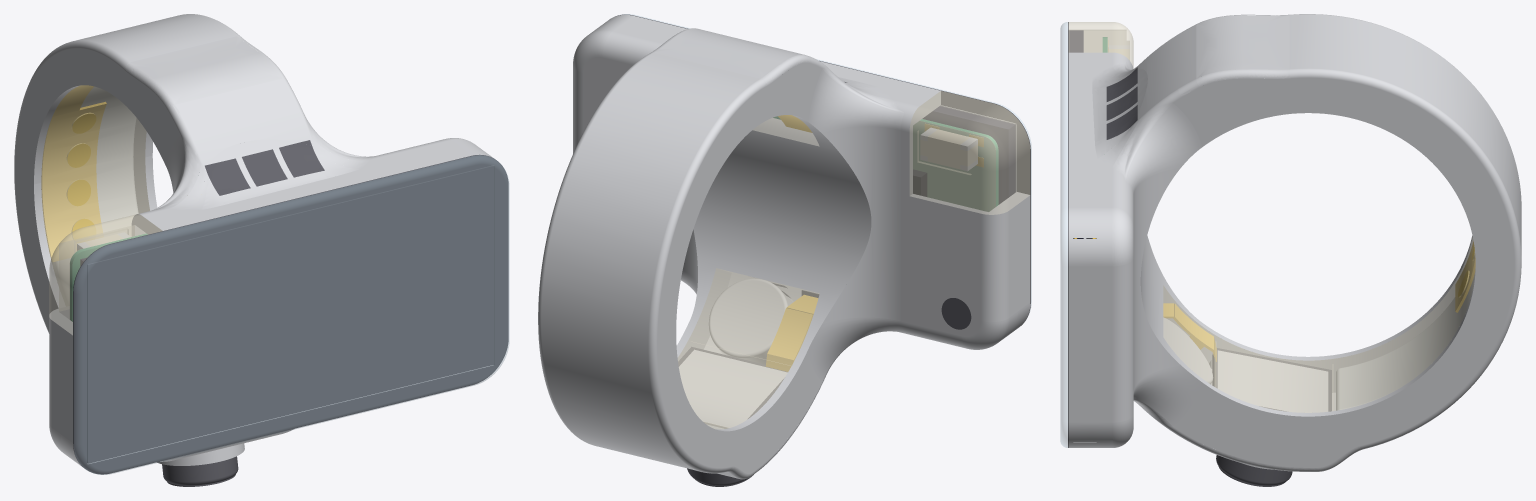
File: thin-inside.glb
3 views of the same model, side by side, from view 1: azimuth 30°, elevation 25°; view 2: azimuth 150°, elevation 25°; view 3: azimuth 270°, elevation 25° (orthographic). The views are drawn at different scales.
Visible parts, largest first — view 1: cover_glass__glass, clear_adhesive__polymer, outer_body__metal, glass_seal__polymer, band_liner__resin, band_flex_away__flex, cell__cell, radio_corner__resin, side_slit_seal__polymer, joystick_cap__polymer, joystick_frame__metal, main_board__pcb (+1 smaller); view 2: outer_body__metal, band_liner__resin, radio_corner__resin, band_flex_thumb__metal, vibration_motor__metal, main_board__pcb, main_board__resin, screen__screen, glass_seal__polymer, band_flex_thumb__flex, antenna__ceramic, mic_membrane_1__polymer (+2 smaller); view 3: outer_body__metal, band_liner__resin, cell__cell, band_flex_thumb__metal, cover_glass__glass, radio_corner__resin, side_slit_seal__polymer, vibration_motor__metal, joystick_cap__polymer, band_flex_thumb__flex, joystick_dam__polymer, band_flex_away__flex.
Part boxes in pixels (x1=…): cover_glass__glass: x1=74, y1=155, x2=509, y2=474; clear_adhesive__polymer: x1=87, y1=165, x2=494, y2=463; outer_body__metal: x1=14, y1=14, x2=494, y2=467; glass_seal__polymer: x1=73, y1=154, x2=508, y2=474; band_liner__resin: x1=41, y1=85, x2=149, y2=284; band_flex_away__flex: x1=41, y1=85, x2=106, y2=261; cell__cell: x1=52, y1=86, x2=138, y2=284; radio_corner__resin: x1=49, y1=214, x2=162, y2=335; side_slit_seal__polymer: x1=205, y1=140, x2=324, y2=195; joystick_cap__polymer: x1=162, y1=456, x2=238, y2=486; joystick_frame__metal: x1=157, y1=443, x2=244, y2=465; main_board__pcb: x1=70, y1=233, x2=147, y2=321; outer_body__metal: x1=538, y1=15, x2=1030, y2=479; band_liner__resin: x1=677, y1=115, x2=819, y2=429; radio_corner__resin: x1=909, y1=91, x2=1030, y2=214; band_flex_thumb__metal: x1=679, y1=349, x2=787, y2=428; vibration_motor__metal: x1=708, y1=278, x2=792, y2=364; main_board__pcb: x1=913, y1=119, x2=998, y2=211; main_board__resin: x1=913, y1=121, x2=995, y2=211; screen__screen: x1=922, y1=106, x2=1015, y2=204; glass_seal__polymer: x1=615, y1=14, x2=1030, y2=325; band_flex_thumb__flex: x1=766, y1=295, x2=818, y2=371; antenna__ceramic: x1=920, y1=129, x2=977, y2=169; mic_membrane_1__polymer: x1=941, y1=298, x2=971, y2=329; outer_body__metal: x1=1068, y1=14, x2=1521, y2=471; band_liner__resin: x1=1163, y1=237, x2=1475, y2=412; cell__cell: x1=1264, y1=78, x2=1474, y2=410; band_flex_thumb__metal: x1=1217, y1=350, x2=1328, y2=412; cover_glass__glass: x1=1060, y1=22, x2=1067, y2=447; radio_corner__resin: x1=1068, y1=22, x2=1133, y2=68; side_slit_seal__polymer: x1=1106, y1=67, x2=1137, y2=139; vibration_motor__metal: x1=1163, y1=317, x2=1213, y2=383; joystick_cap__polymer: x1=1216, y1=455, x2=1292, y2=486; band_flex_thumb__flex: x1=1163, y1=303, x2=1216, y2=361; joystick_dam__polymer: x1=1212, y1=348, x2=1331, y2=411; band_flex_away__flex: x1=1455, y1=241, x2=1475, y2=312.
Bounding box in the file's own units: 29.3 × 27.19 × 26.09.
